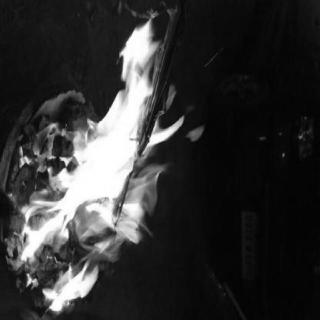Fire: (7, 8, 191, 312)
